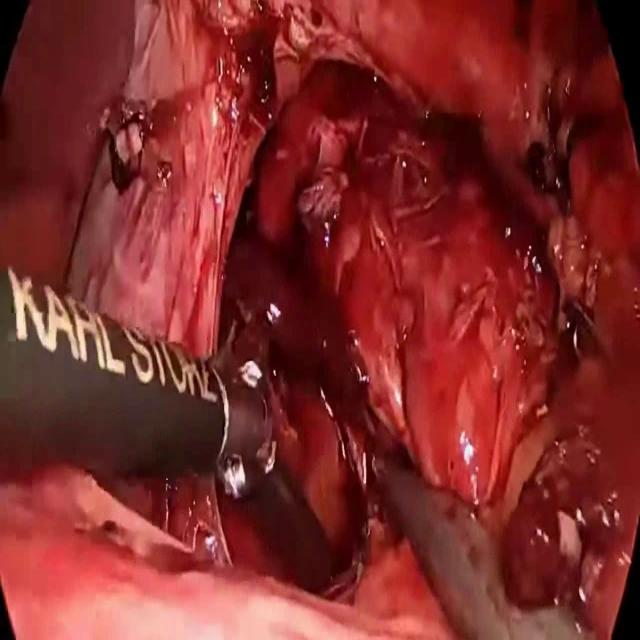surgical-area: (0, 0, 640, 639)
surgical-tool: (0, 266, 278, 499), (386, 469, 595, 639)
